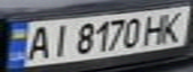0: (121, 15, 145, 48)
1: (93, 17, 112, 53)
7: (106, 16, 127, 52)
8: (72, 19, 96, 55)
A: (21, 22, 54, 61)
H: (139, 11, 172, 46)
I: (45, 21, 72, 59)
K: (157, 8, 190, 43)
